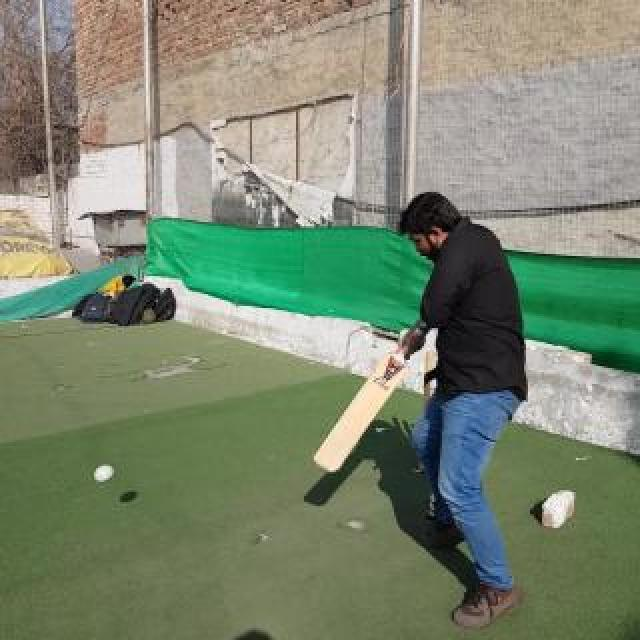ball: (95, 464, 113, 482)
bat: (314, 324, 426, 472)
